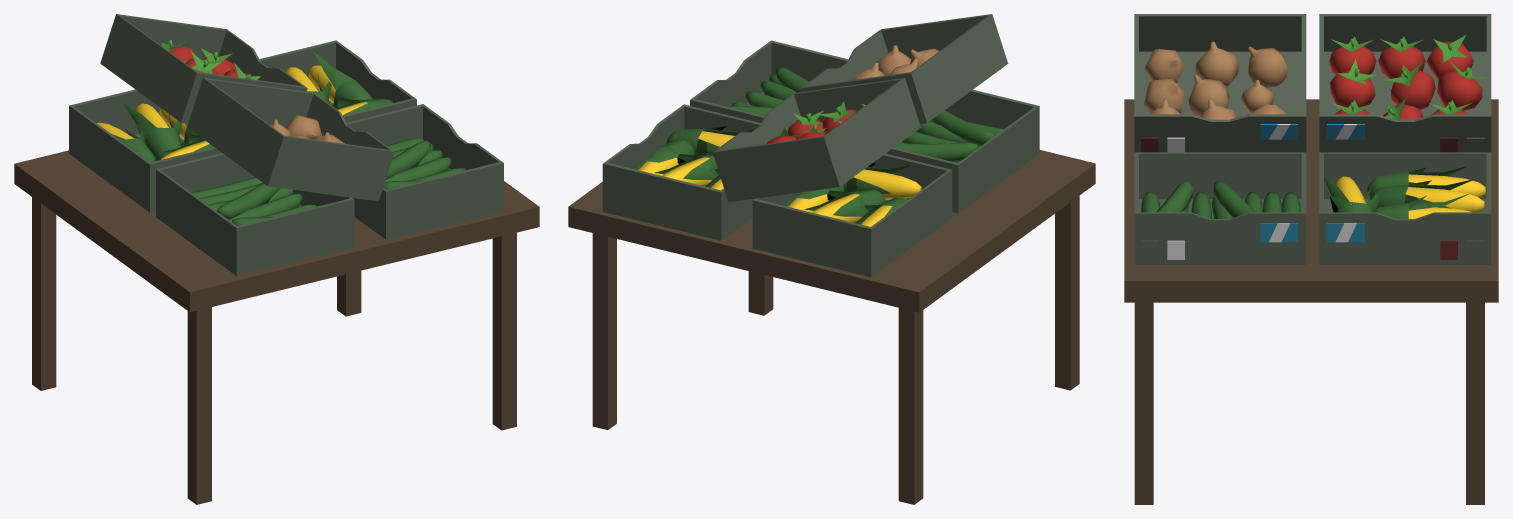
Rendered from SM_fruitTable_01.glb.
The picture shows the model from 3 angles, left to right: view 1: azimuth 30°, elevation 25°; view 2: azimuth 150°, elevation 25°; view 3: azimuth 270°, elevation 25°; orthographic projection. The views are drawn at different scales.
Visible parts, largest first — view 1: SM_fruitTable_01; view 2: SM_fruitTable_01; view 3: SM_fruitTable_01.
Boxes of the visible parts, x1,y1,x2,y2 form: SM_fruitTable_01: [14, 14, 539, 504]; SM_fruitTable_01: [568, 14, 1095, 504]; SM_fruitTable_01: [1124, 14, 1498, 504].
Size of the model in its own units: 1.15 by 1.09 by 0.9968.
1 material, 1 textured.
